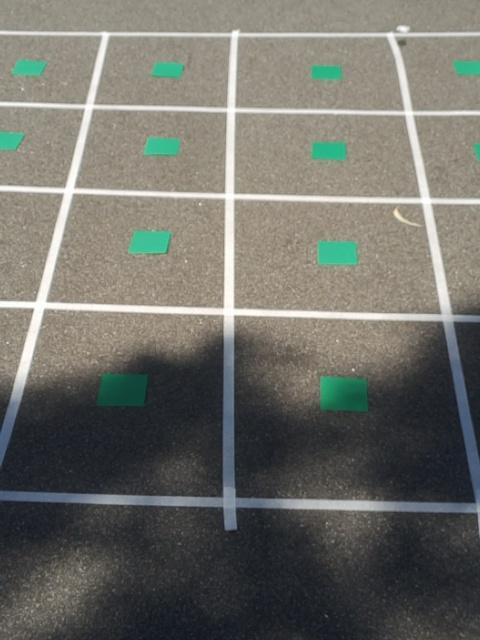weed: (94, 370, 152, 410), (317, 374, 371, 411), (314, 237, 361, 269), (128, 229, 174, 257), (143, 133, 184, 158), (310, 138, 350, 161), (10, 57, 52, 76), (451, 55, 480, 80), (308, 62, 347, 80), (150, 60, 188, 78), (0, 126, 28, 149), (473, 142, 480, 163)
